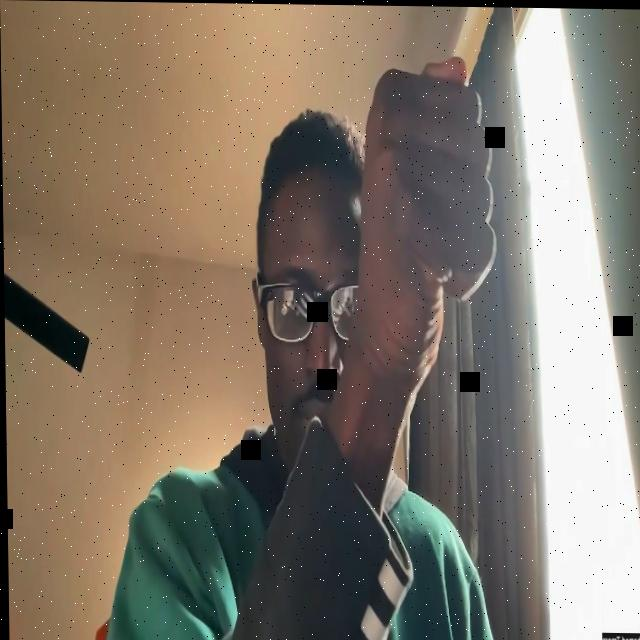Rock: (354, 53, 498, 374)
